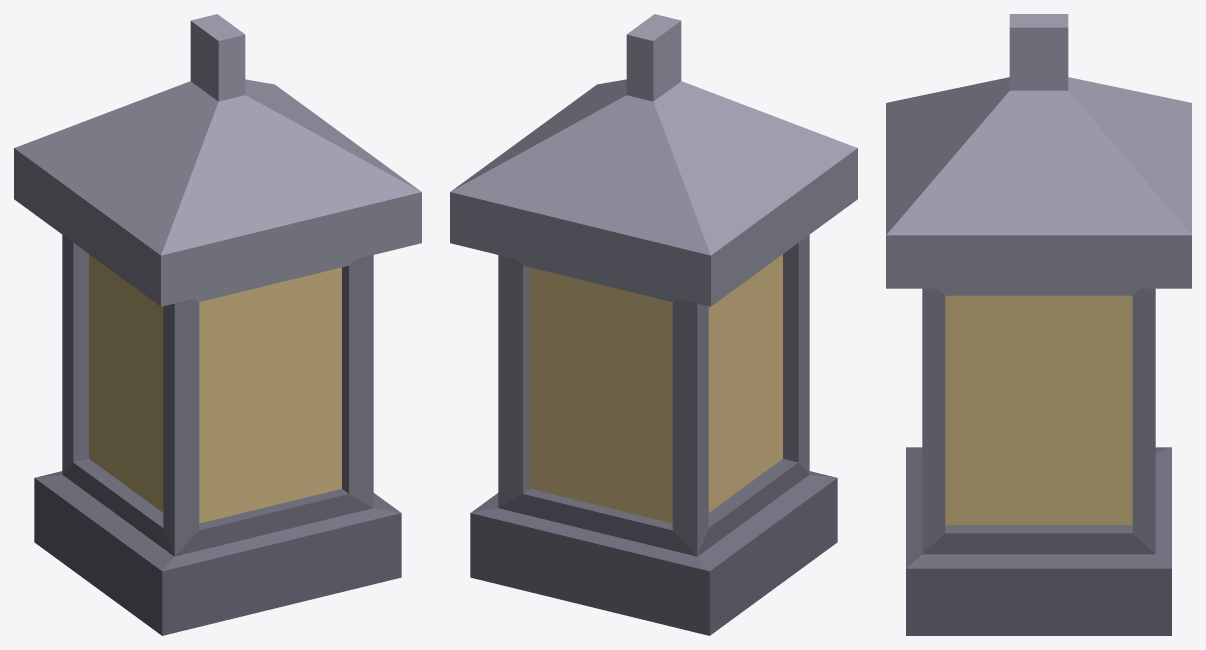
File: lamp.glb
3 renders of one model, left to right at view 1: azimuth 30°, elevation 25°; view 2: azimuth 150°, elevation 25°; view 3: azimuth 270°, elevation 25°, orthographic. The views are drawn at different scales.
Parts seen in each view (by area): view 1: Lamp.001; view 2: Lamp.001; view 3: Lamp.001.
Boxes of the visible parts, bbox=[...] form: Lamp.001: bbox=[14, 14, 421, 635]; Lamp.001: bbox=[450, 14, 857, 635]; Lamp.001: bbox=[886, 14, 1191, 635].
Bounding box in the file's own units: 0.2498 × 0.4873 × 0.2437.
